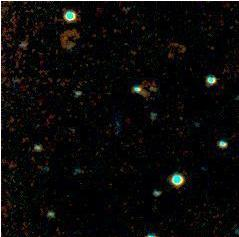star: (164, 104, 194, 134)
